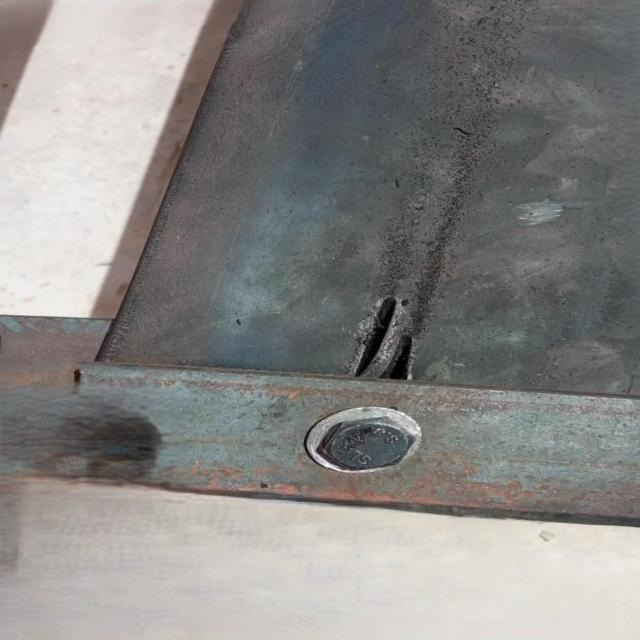Tear: (350, 288, 401, 382), (378, 329, 418, 387), (447, 122, 476, 138)
